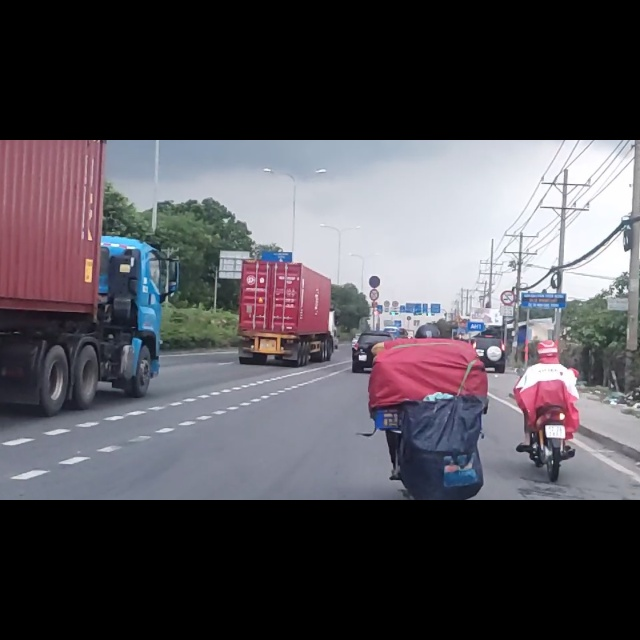bien_cam: (501, 268, 515, 295), (368, 241, 381, 263)
